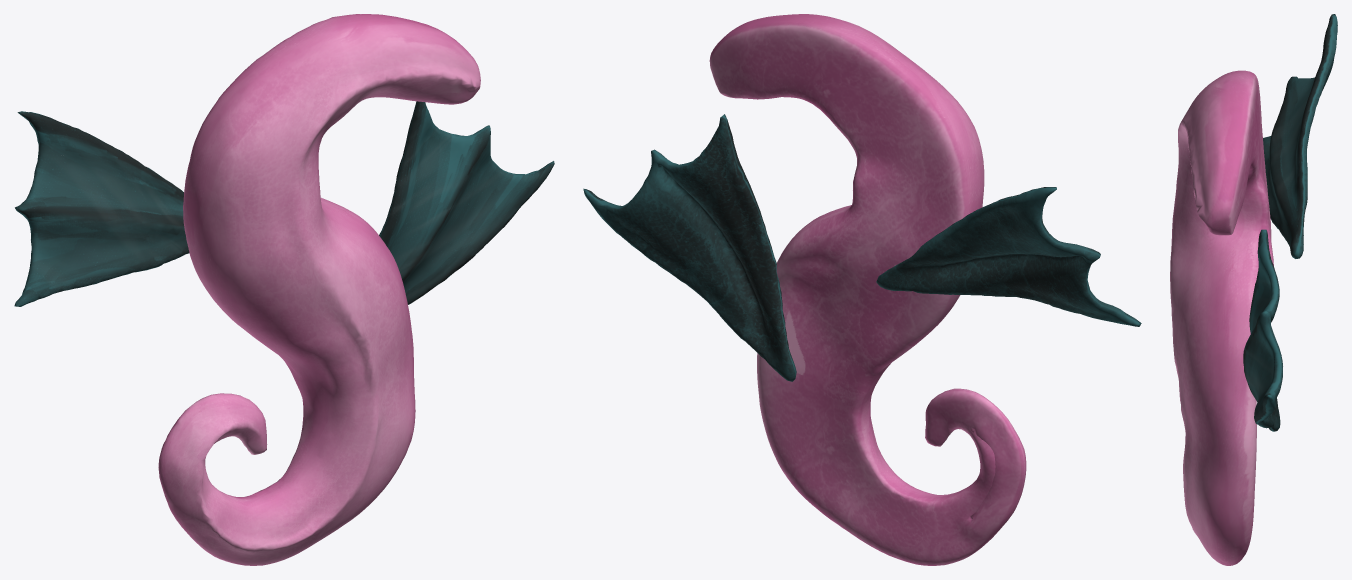
File: Lengua.obj
3 renders of one model, left to right at view 1: azimuth 30°, elevation 25°; view 2: azimuth 150°, elevation 25°; view 3: azimuth 270°, elevation 25°, orthographic. The views are drawn at different scales.
Parts seen in each view (by area): view 1: Lengua, Algas; view 2: Lengua, Algas; view 3: Lengua, Algas.
Part boxes in pixels (x1,y1,x2,y2): Lengua: [158, 14, 480, 565]; Algas: [14, 101, 554, 306]; Lengua: [709, 14, 1026, 565]; Algas: [583, 114, 1141, 381]; Lengua: [1170, 70, 1273, 565]; Algas: [1243, 14, 1337, 431].
Bounding box in the file's own units: 0.9656 × 0.879 × 0.2643.
Materials: 2 (2 with a texture image).
